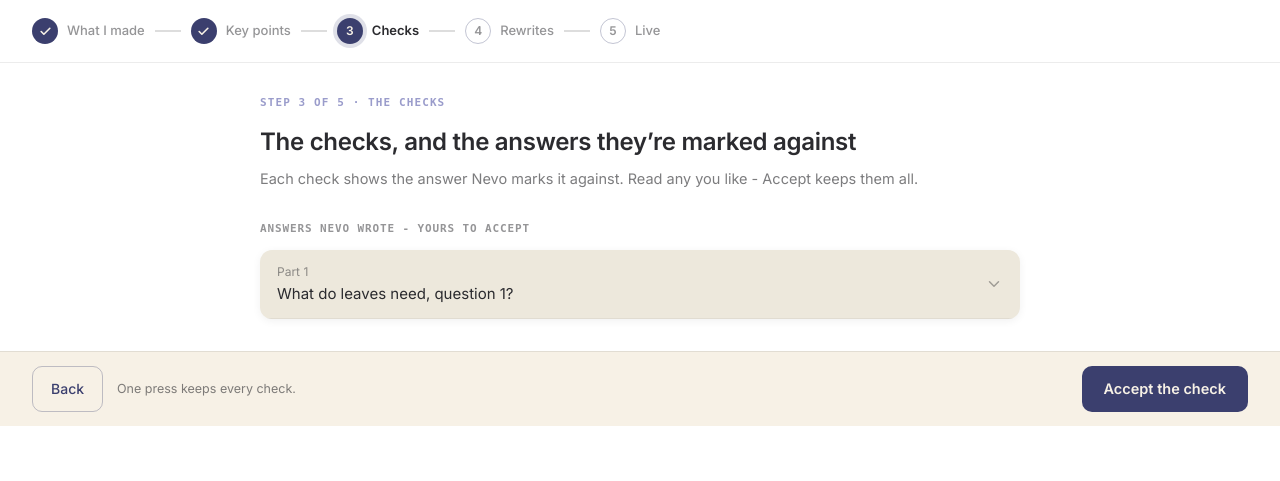
reading what the lesson asks › shows the answer itself where there are no choices
Expected: the navigation bar named "Lesson review steps" is shown, left=0, top=0, right=1279, bottom=63
Step 1. Click the button "Part 1 What do leaves need, question 1?" → click(293, 271), box left=260, top=250, right=1020, bottom=318
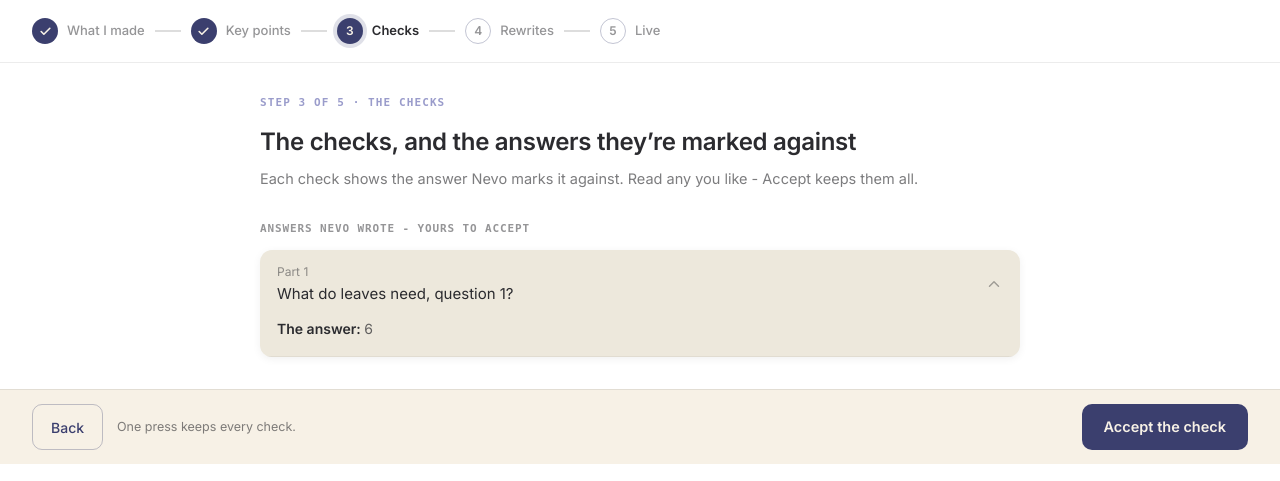
Result: the element showing "The answer: 6" is shown at left=277, top=320, right=373, bottom=337
